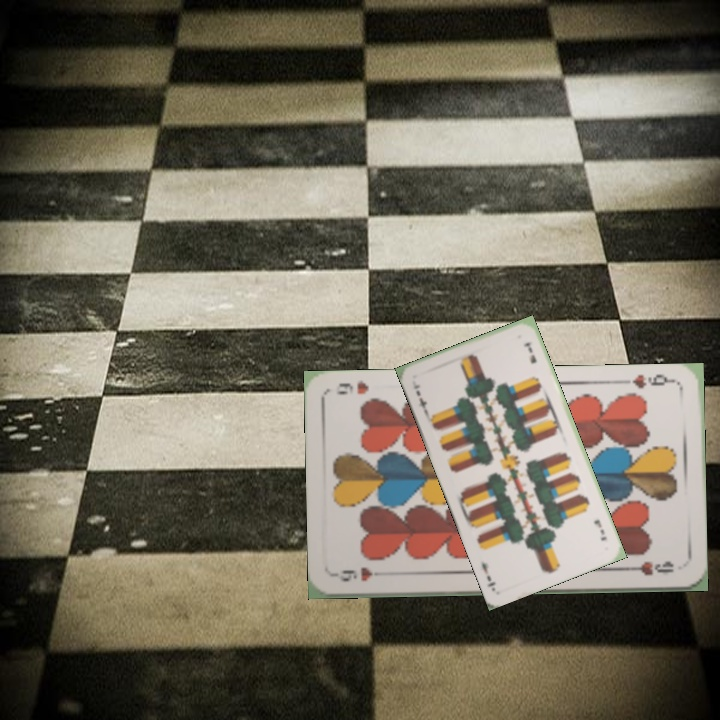E7: (409, 380, 430, 416), (590, 515, 609, 543)
H9: (618, 370, 678, 391), (332, 563, 391, 584)
